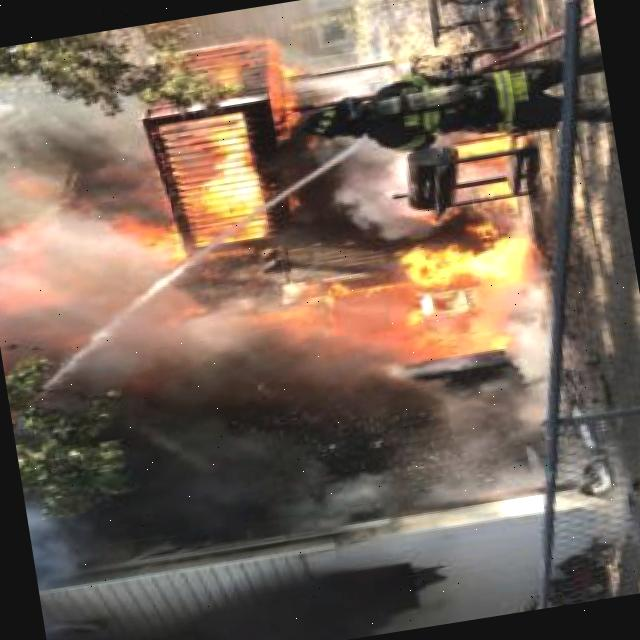fire: (163, 109, 284, 263), (376, 295, 504, 373), (389, 235, 530, 305), (114, 212, 198, 272), (243, 54, 307, 126), (452, 176, 528, 216), (447, 131, 525, 165)
